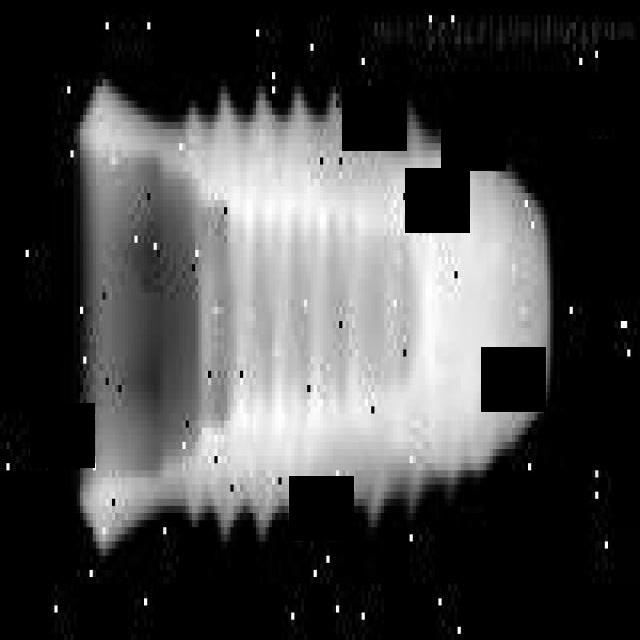Titan Implant Implant: (77, 71, 557, 562)
